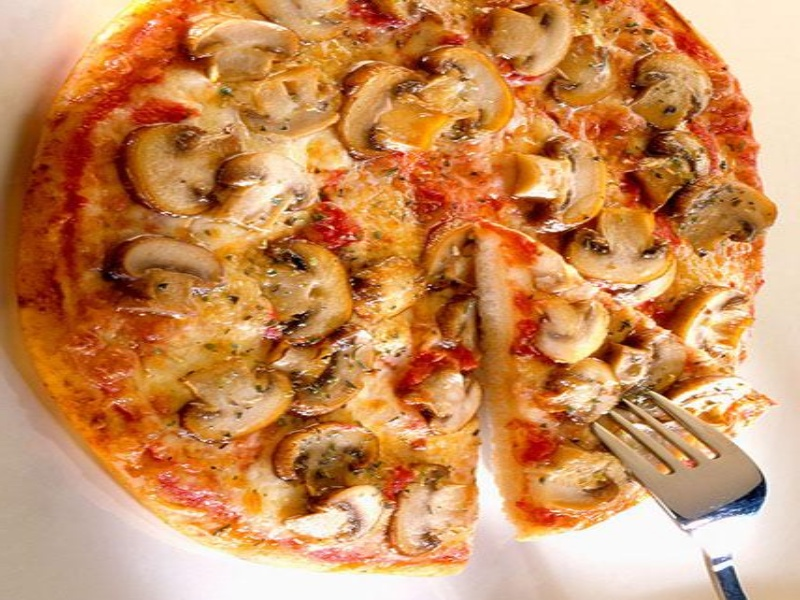champignon: (335, 60, 461, 164), (164, 345, 292, 447), (117, 113, 236, 222), (262, 413, 392, 499), (512, 127, 611, 237), (112, 232, 235, 319), (414, 39, 516, 139), (255, 242, 356, 342), (569, 200, 680, 289), (521, 284, 617, 374), (188, 18, 305, 85), (476, 4, 573, 82), (630, 45, 717, 129)
